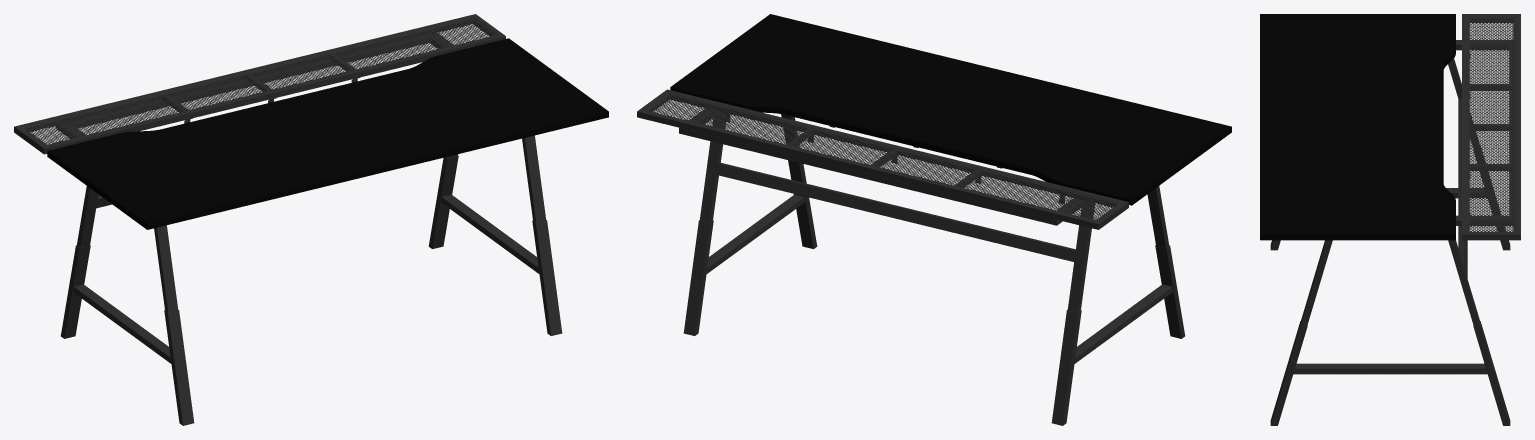
Rendered from ikea_desk_final.glb.
3 renders of one model, left to right at view 1: azimuth 30°, elevation 25°; view 2: azimuth 150°, elevation 25°; view 3: azimuth 270°, elevation 25°, orthographic. The views are drawn at different scales.
Visible parts, largest first — view 1: table top_tabletop.001_0, meshtop_steel.002_0; view 2: table top_tabletop.001_0, meshtop_steel.002_0; view 3: table top_tabletop.001_0, meshtop_steel.002_0.
Part boxes in pixels (x1,y1,x2,y2): table top_tabletop.001_0: (47,38,608,229); meshtop_steel.002_0: (14,14,562,425); table top_tabletop.001_0: (670,14,1231,205); meshtop_steel.002_0: (637,89,1185,425); table top_tabletop.001_0: (1260,14,1455,240); meshtop_steel.002_0: (1270,14,1520,425).
Bounding box in the file's own units: 1.6 × 0.7151 × 0.8.
Materials: 2 (1 with a texture image).
